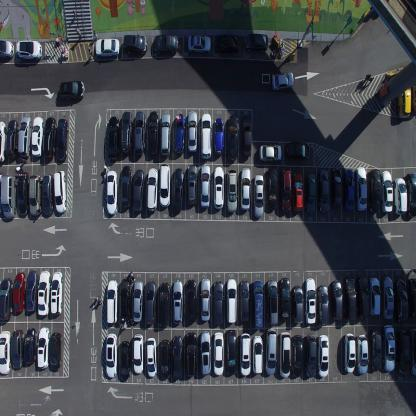car: (0, 174, 17, 218), (381, 325, 396, 372), (396, 78, 412, 122), (37, 269, 51, 316), (251, 280, 264, 330), (265, 279, 278, 327), (0, 276, 13, 324), (12, 270, 26, 314), (395, 278, 408, 324), (278, 332, 291, 378), (199, 330, 212, 376), (120, 110, 133, 155), (133, 110, 146, 155), (356, 275, 369, 320), (343, 276, 356, 321), (264, 328, 276, 376), (5, 118, 19, 159), (53, 170, 66, 214), (214, 33, 240, 55), (153, 33, 179, 55), (122, 34, 148, 56), (16, 38, 42, 60), (239, 167, 252, 211), (381, 276, 394, 320), (200, 113, 212, 160), (396, 327, 408, 374), (158, 281, 170, 328), (225, 328, 237, 375), (170, 334, 182, 381), (10, 328, 24, 368), (43, 116, 56, 159), (18, 115, 31, 158), (29, 173, 42, 216), (304, 335, 317, 378), (108, 115, 120, 161), (106, 169, 118, 215), (355, 166, 367, 212), (212, 280, 224, 326), (144, 280, 156, 326), (119, 277, 131, 323), (106, 278, 118, 324), (185, 331, 197, 377), (355, 333, 368, 375), (343, 332, 356, 374), (17, 171, 29, 216), (146, 167, 158, 212), (172, 167, 184, 212), (199, 164, 211, 209), (368, 168, 380, 213), (212, 331, 224, 376), (105, 333, 117, 378), (26, 268, 38, 313), (31, 116, 44, 157), (330, 280, 343, 321), (393, 178, 407, 216), (56, 117, 68, 161), (227, 114, 238, 162), (266, 167, 278, 211), (343, 168, 355, 212), (380, 170, 392, 214), (305, 276, 316, 324), (132, 279, 144, 323), (317, 334, 329, 378), (51, 271, 63, 315), (37, 325, 49, 369), (0, 328, 11, 376), (49, 332, 62, 372), (226, 277, 237, 324), (42, 174, 54, 217), (120, 165, 132, 208), (369, 329, 381, 372), (133, 168, 144, 214), (172, 279, 183, 325), (239, 331, 250, 377), (174, 112, 186, 154), (244, 31, 268, 52), (316, 283, 328, 325), (278, 276, 290, 318), (132, 332, 144, 374), (94, 38, 119, 58), (160, 112, 171, 157), (226, 168, 237, 213), (200, 277, 211, 322), (59, 80, 85, 99), (240, 116, 252, 157), (213, 165, 224, 209), (253, 174, 264, 218), (280, 168, 291, 212), (305, 172, 316, 216), (239, 280, 250, 324), (292, 334, 303, 378), (271, 71, 294, 92), (368, 276, 380, 316), (187, 110, 198, 153), (148, 110, 158, 157), (24, 326, 36, 365), (318, 170, 329, 212), (331, 168, 342, 209), (120, 340, 131, 381), (160, 163, 170, 208), (285, 142, 310, 160), (406, 172, 416, 217), (186, 279, 196, 324), (292, 172, 303, 212), (252, 335, 263, 375), (187, 34, 211, 52), (160, 338, 170, 381), (146, 336, 156, 379), (292, 285, 303, 323), (187, 165, 197, 206), (406, 277, 416, 318), (408, 328, 416, 377), (259, 144, 282, 161), (214, 117, 224, 156), (0, 38, 15, 60), (0, 119, 7, 162), (412, 74, 416, 112)
